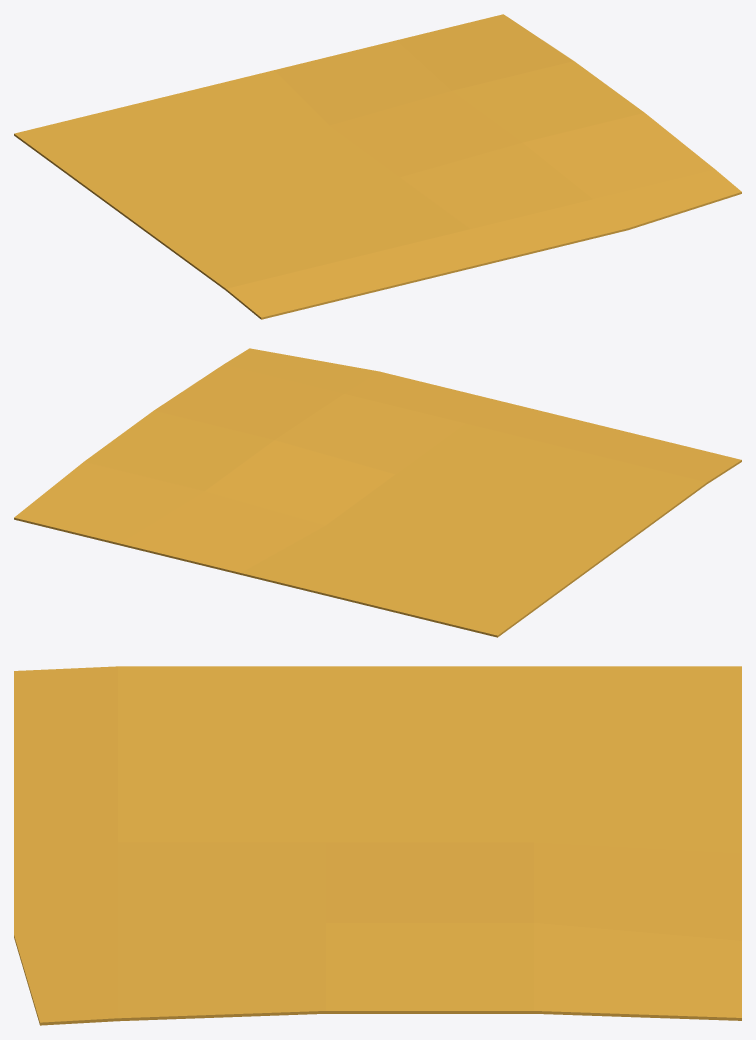
3 views of the same model, one above another, from view 1: azimuth 30°, elevation 25°; view 2: azimuth 150°, elevation 25°; view 3: azimuth 270°, elevation 25° (orthographic). The views are drawn at different scales.
Parts seen in each view (by area): view 1: 01_street_base_plate-COL.045; view 2: 01_street_base_plate-COL.045; view 3: 01_street_base_plate-COL.045.
Boxes of the visible parts, x1,y1,x2,y2 form: 01_street_base_plate-COL.045: (14, 14, 741, 319); 01_street_base_plate-COL.045: (14, 348, 741, 637); 01_street_base_plate-COL.045: (14, 666, 741, 1025).
Size of the model in its own units: 256 by 4.99 by 224.
